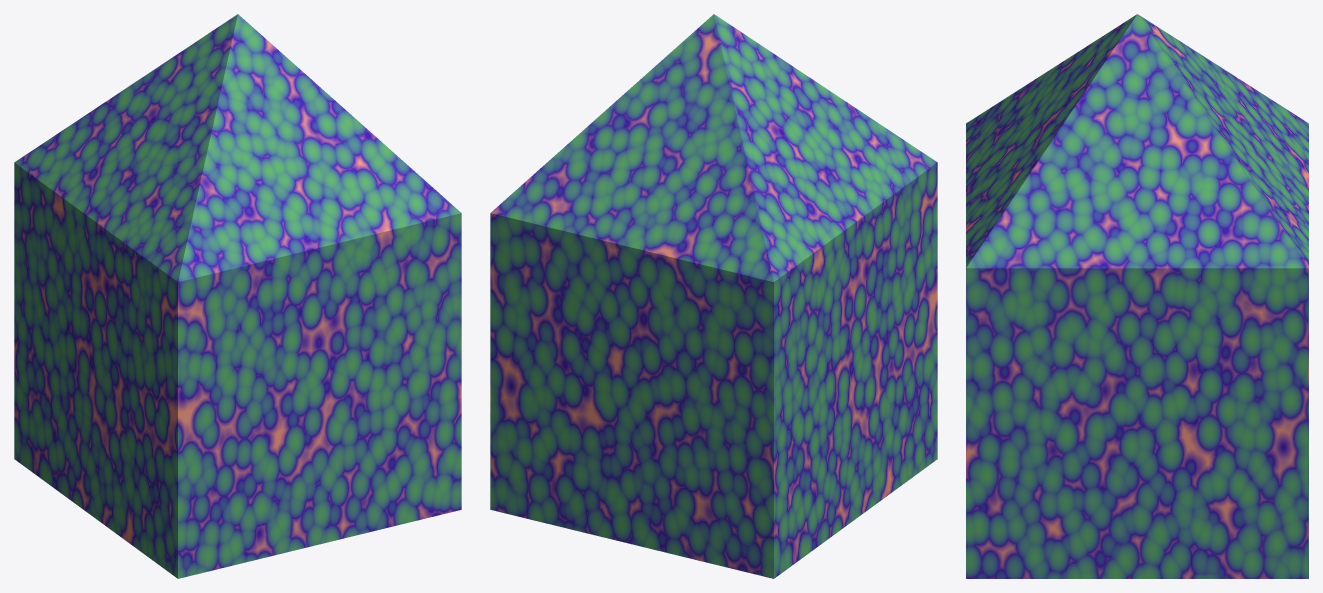
The model's file is maison.gltf.
The picture shows the model from 3 angles, left to right: view 1: azimuth 30°, elevation 25°; view 2: azimuth 150°, elevation 25°; view 3: azimuth 270°, elevation 25°; orthographic projection. The views are drawn at different scales.
Visible parts, largest first — view 1: Cube; view 2: Cube; view 3: Cube.
Boxes of the visible parts, <box> form: Cube: <box>14,14,461,578</box>; Cube: <box>490,14,937,578</box>; Cube: <box>966,14,1308,578</box>.
Bounding box in the file's own units: 2 × 3.17 × 2.
Materials: 1 (1 with a texture image).
